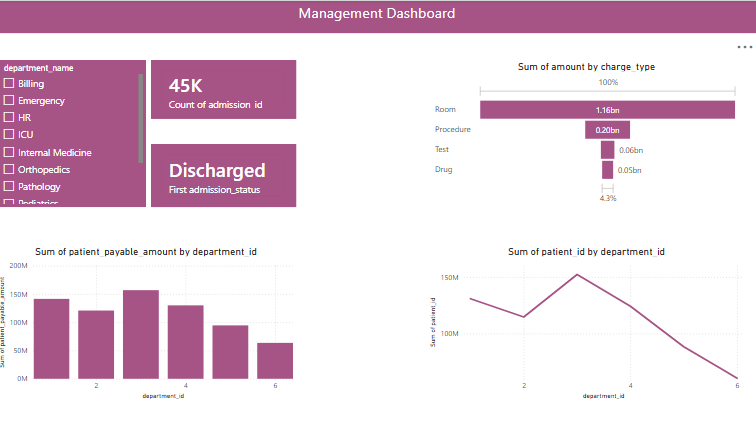

Layout of this report page (visuals, bound fields, positions):
{"tool":"powerbi","page":{"name":"Page 2","canvas":[1280,720],"ordinal":1},"visuals":[{"type":"cardVisual","fields":{"Data":["Count(admission$.admission_id)"]},"box":[260.4,100.8,243.6,99.1],"z":0},{"type":"columnChart","fields":{"Category":["admission$.department_id"],"Y":["Sum(billing$.patient_payable_amount)"]},"box":[0,411.5,503.9,263.7],"z":1000},{"type":"funnel","fields":{"Category":["billing_detail$.charge_type"],"Y":["Sum(billing_detail$.amount)"]},"box":[732.4,100.8,519.1,246.9],"z":2000},{"type":"lineChart","fields":{"Category":["admission$.department_id"],"Y":["Sum(admission$.patient_id)"]},"box":[724,411.5,535.9,263.7],"z":3000},{"type":"cardVisual","fields":{"Data":["Min(admission$.admission_status)"]},"box":[260.4,241.9,243.6,105.8],"z":4000},{"type":"slicer","fields":{"Values":["department$.department_name"]},"box":[0,100.8,252,246.9],"z":5000},{"type":"textbox","box":[0,0,1280,57.1],"z":5001}]}

Visuals, with their boxes in screenshot pixels (x1, y1, x2, y2), scaled from the page's 1280x720 canvas onto the 756x428 screenshot:
cardVisual - Count(admission$.admission_id): rect(154, 60, 298, 119)
columnChart - admission$.department_id x Sum(billing$.patient_payable_amount): rect(0, 245, 298, 401)
funnel - billing_detail$.charge_type x Sum(billing_detail$.amount): rect(433, 60, 739, 207)
lineChart - admission$.department_id x Sum(admission$.patient_id): rect(428, 245, 744, 401)
cardVisual - Min(admission$.admission_status): rect(154, 144, 298, 207)
slicer - department$.department_name: rect(0, 60, 149, 207)
textbox: rect(0, 0, 755, 34)
